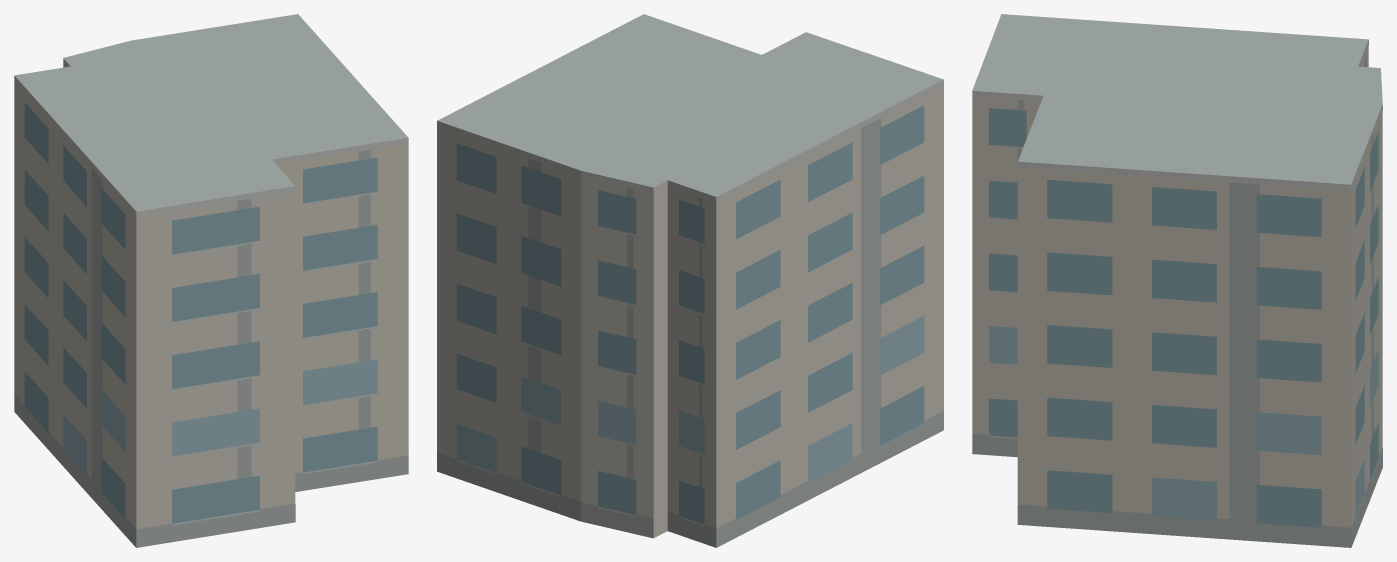
File: survey-upis-32847195.glb
3 renders of one model, left to right at view 1: azimuth 30°, elevation 25°; view 2: azimuth 150°, elevation 25°; view 3: azimuth 270°, elevation 25°, orthographic. The views are drawn at different scales.
Visible parts, largest first — view 1: survey-upis-32847195.tmp; view 2: survey-upis-32847195.tmp; view 3: survey-upis-32847195.tmp.
Boxes of the visible parts, x1,y1,x2,y2 form: survey-upis-32847195.tmp: (14,14,408,547); survey-upis-32847195.tmp: (437,14,943,547); survey-upis-32847195.tmp: (972,14,1382,547).
Size of the model in its own units: 14.57 by 14.45 by 14.82.
